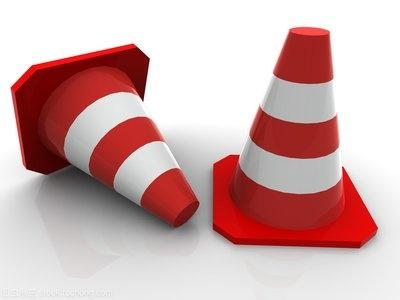cone_barrel: (10, 43, 198, 227), (218, 23, 358, 232)
